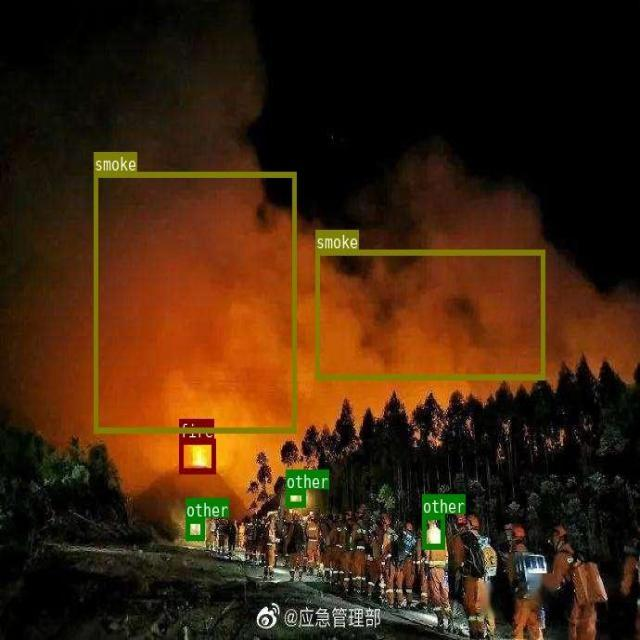fire: (179, 438, 215, 472)
smoke: (94, 172, 295, 431), (315, 249, 544, 379)
